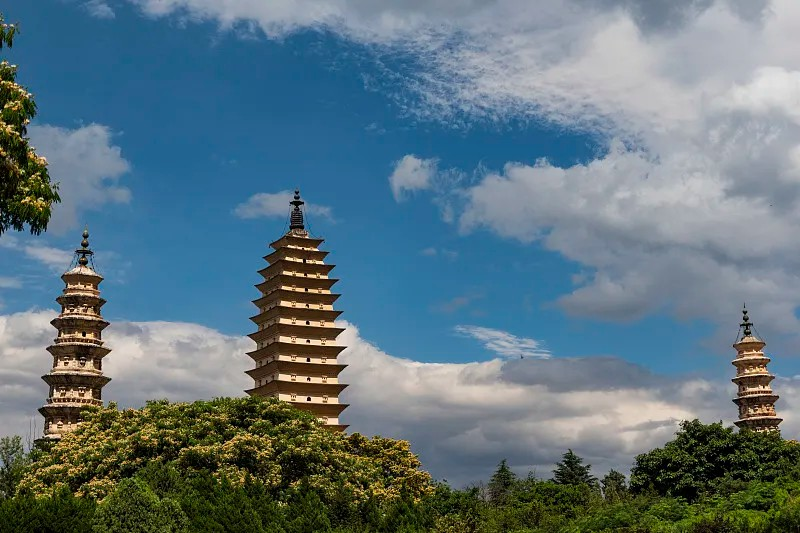ThreePagoda: (244, 189, 351, 432)
